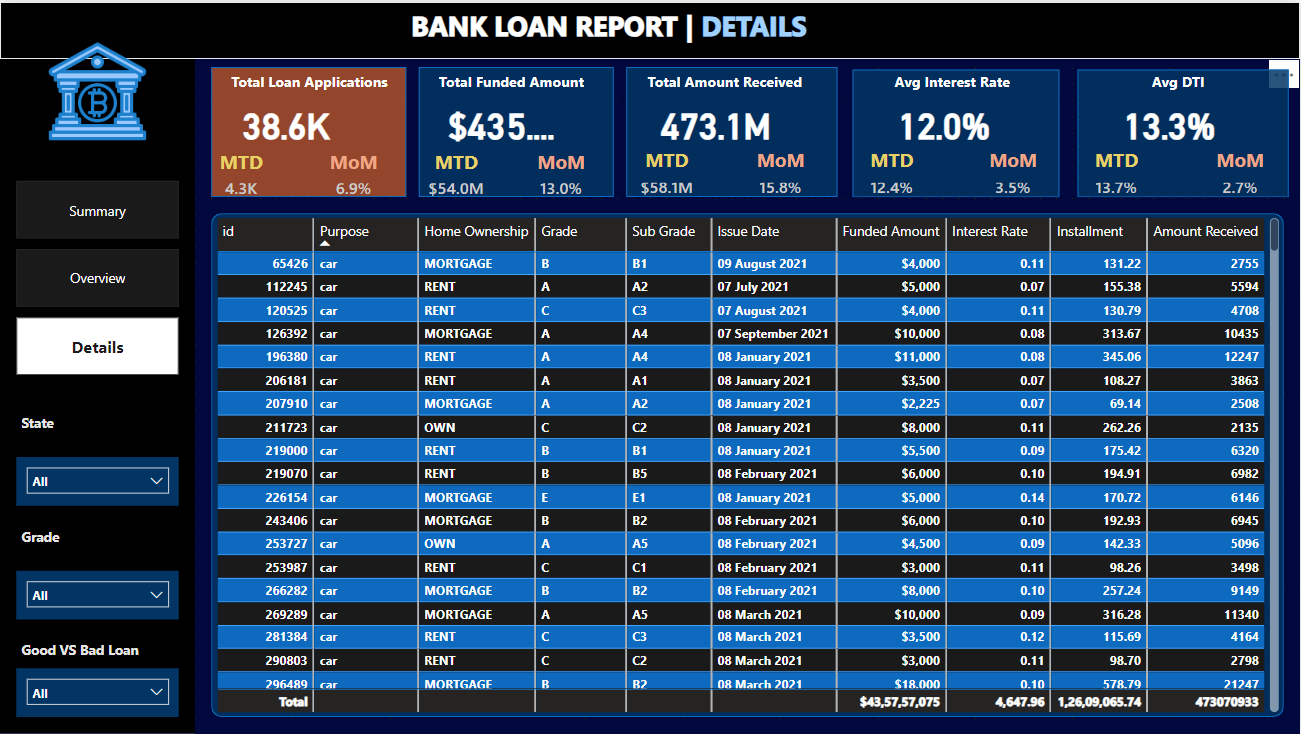

Layout of this report page (visuals, bound fields, positions):
{"tool":"powerbi","page":{"name":"Details","canvas":[1280,720],"ordinal":2},"visuals":[{"type":"shape","box":[0,48,192,672],"z":0},{"type":"shape","box":[0,0,1280,55],"z":1000},{"type":"textbox","box":[400,0,448,48],"z":2000},{"type":"shape","box":[208,64,192,128],"z":2000,"group":"g6"},{"type":"shape","box":[412,64,192,128],"z":2000,"group":"g2"},{"type":"shape","box":[616,64,208,128],"z":2000,"group":"g3"},{"type":"shape","box":[840.3,66,203.7,126],"z":2000,"group":"g4"},{"type":"shape","box":[1060.4,66,208,126],"z":2000,"group":"g7"},{"type":"group","id":"g1","title":"Group 1","box":[208,64,192,128],"z":3000},{"type":"group","id":"g2","title":"Group 4","box":[412,64,192,128],"z":4000},{"type":"card","fields":{"Values":["financial_loan.Total Amount Received"]},"box":[632,95.5,144,47.2],"z":4000,"group":"g3"},{"type":"card","fields":{"Values":["financial_loan.Average Interest Rate"]},"box":[853,95.5,152.8,47.2],"z":4000,"group":"g4"},{"type":"card","fields":{"Values":["financial_loan.Avg DTI"]},"box":[1073.3,95.5,156,47.2],"z":4000,"group":"g7"},{"type":"card","fields":{"Values":["financial_loan.Total Loan Applications"]},"box":[222.8,96,118.2,48],"z":4000,"group":"g6"},{"type":"card","fields":{"Values":["financial_loan.Total Funded Amount"]},"box":[426.8,96,132.9,48],"z":4000,"group":"g2"},{"type":"textbox","box":[222.8,64,177.2,32],"z":5000,"group":"g6"},{"type":"textbox","box":[426.8,64,177.2,32],"z":5000,"group":"g2"},{"type":"textbox","box":[632,64,192,31.5],"z":5000,"group":"g3"},{"type":"textbox","box":[836,64,203.7,32],"z":5000,"group":"g4"},{"type":"textbox","box":[1056,64,208,32],"z":5000,"group":"g7"},{"type":"shape","box":[208,208,1056,496],"z":5000},{"type":"group","id":"g3","title":"Group 4","box":[616,64,208,128],"z":6000},{"type":"card","title":"MTD","fields":{"Values":["financial_loan.MTD Total Amount Received"]},"box":[616,142.7,80,47.2],"z":6000,"group":"g3"},{"type":"card","title":"MTD","fields":{"Values":["financial_loan.MTD Avg Interest Rate"]},"box":[836,142.7,84.9,47.2],"z":6000,"group":"g4"},{"type":"card","title":"MTD","fields":{"Values":["financial_loan.MTD Avg DTI"]},"box":[1056,142.7,86.7,47.2],"z":6000,"group":"g7"},{"type":"card","title":"MTD","fields":{"Values":["financial_loan.MTD Loan Applications"]},"box":[208,144,59.1,48],"z":6000,"group":"g6"},{"type":"card","title":"MTD","fields":{"Values":["financial_loan.MTD Funded Amount"]},"box":[412,144,73.8,48],"z":6000,"group":"g2"},{"type":"group","id":"g4","title":"Group 4","box":[836,64,208,128],"z":7000},{"type":"card","title":"MoM","fields":{"Values":["financial_loan.MoM Total Amount Received"]},"box":[728,142.7,80,47.2],"z":7000,"group":"g3"},{"type":"card","title":"MoM","fields":{"Values":["financial_loan.MoM Avg Interest Rate"]},"box":[954.8,142.7,84.9,47.2],"z":7000,"group":"g4"},{"type":"card","title":"MoM","fields":{"Values":["financial_loan.MoM Avg DTI"]},"box":[1177.3,142.7,86.7,47.2],"z":7000,"group":"g7"},{"type":"card","title":"MoM","fields":{"Values":["financial_loan.MoM Loan Applications"]},"box":[311.4,144,73.8,48],"z":7000,"group":"g6"},{"type":"card","title":"MoM","fields":{"Values":["financial_loan.MoM Funded Amount"]},"box":[515.4,144,73.8,48],"z":7000,"group":"g2"},{"type":"group","id":"g5","title":"Group 2","box":[208,64,192,128],"z":7002,"group":"g1"},{"type":"group","id":"g6","title":"Group 3","box":[208,64,192,128],"z":7002,"group":"g5"},{"type":"group","id":"g7","title":"Group 4","box":[1056,64,208,128],"z":8000},{"type":"slicer","fields":{"Values":["financial_loan.address_state"]},"box":[16,448,160,48],"z":9000},{"type":"textbox","box":[16,400,64,32],"z":10000},{"type":"slicer","fields":{"Values":["financial_loan.grade"]},"box":[16,560,160,48],"z":11000},{"type":"slicer","fields":{"Values":["financial_loan.Good VS Bad Loan"]},"box":[16,656,160,48],"z":12000},{"type":"textbox","box":[16,512,64,32],"z":13000},{"type":"textbox","box":[16,624,144,32],"z":14000},{"type":"tableEx","fields":{"Values":["financial_loan.id","financial_loan.purpose","financial_loan.home_ownership","financial_loan.grade","financial_loan.sub_grade","financial_loan.issue_date","financial_loan.Total Funded Amount","Sum(financial_loan.int_rate)","Sum(financial_loan.installment)","financial_loan.Total Amount Received"]},"box":[208,208,1056,496],"z":16001},{"type":"pageNavigator","box":[16,176,160,192],"z":16002},{"type":"image","box":[32,32,128,112],"z":16003}]}

Visuals, with their boxes in screenshot pixels (x1, y1, x2, y2), scaled from the page's 1280x720 canvas onto the 1301x734 screenshot:
shape: 0 49 195 733
shape: 0 0 1300 56
textbox: 407 0 862 49
shape: 211 65 407 196
shape: 419 65 614 196
shape: 626 65 838 196
shape: 854 67 1061 196
shape: 1078 67 1289 196
"Group 1" group: 211 65 407 196
"Group 4" group: 419 65 614 196
card - financial_loan.Total Amount Received: 642 97 789 145
card - financial_loan.Average Interest Rate: 867 97 1022 145
card - financial_loan.Avg DTI: 1091 97 1249 145
card - financial_loan.Total Loan Applications: 226 98 347 147
card - financial_loan.Total Funded Amount: 434 98 569 147
textbox: 226 65 407 98
textbox: 434 65 614 98
textbox: 642 65 838 97
textbox: 850 65 1057 98
textbox: 1073 65 1285 98
shape: 211 212 1285 718
"Group 4" group: 626 65 838 196
"MTD" card: 626 145 707 194
"MTD" card: 850 145 936 194
"MTD" card: 1073 145 1161 194
"MTD" card: 211 147 271 196
"MTD" card: 419 147 494 196
"Group 4" group: 850 65 1061 196
"MoM" card: 740 145 821 194
"MoM" card: 970 145 1057 194
"MoM" card: 1197 145 1285 194
"MoM" card: 317 147 392 196
"MoM" card: 524 147 599 196
"Group 2" group: 211 65 407 196
"Group 3" group: 211 65 407 196
"Group 4" group: 1073 65 1285 196
slicer - financial_loan.address_state: 16 457 179 506
textbox: 16 408 81 440
slicer - financial_loan.grade: 16 571 179 620
slicer - financial_loan.Good VS Bad Loan: 16 669 179 718
textbox: 16 522 81 555
textbox: 16 636 163 669
tableEx - financial_loan.id x financial_loan.purpose: 211 212 1285 718
pageNavigator: 16 179 179 375
image: 33 33 163 147
